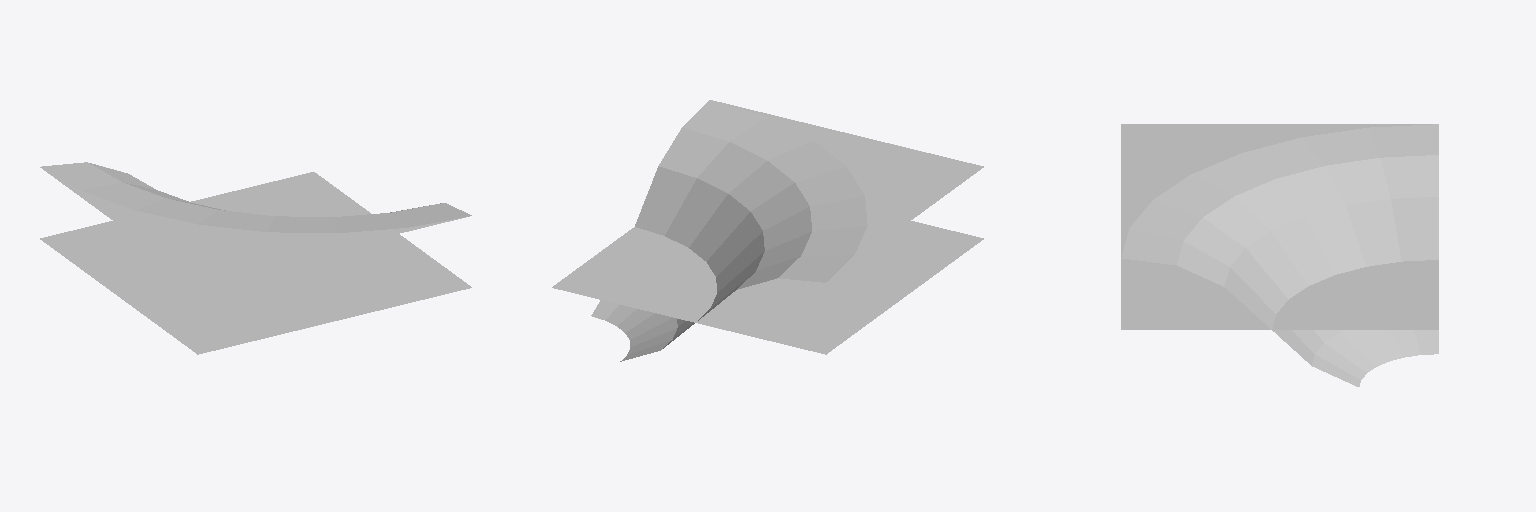
Rendered from Terrain_Water_Corner_Inner_2x2.obj.
The picture shows the model from 3 angles: view 1: azimuth 30°, elevation 25°; view 2: azimuth 150°, elevation 25°; view 3: azimuth 270°, elevation 25°; orthographic projection.
Visible parts, largest first — view 1: object1, object2; view 2: object2, object1; view 3: object2, object1.
Part boxes in pixels (x1,y1,x2,y2): object1: (40,172,471,354); object2: (40,162,471,282); object2: (591,100,983,361); object1: (552,221,983,354); object2: (1121,124,1438,386); object1: (1121,258,1438,329).
Size of the model in its own units: 2 by 0.9 by 2.